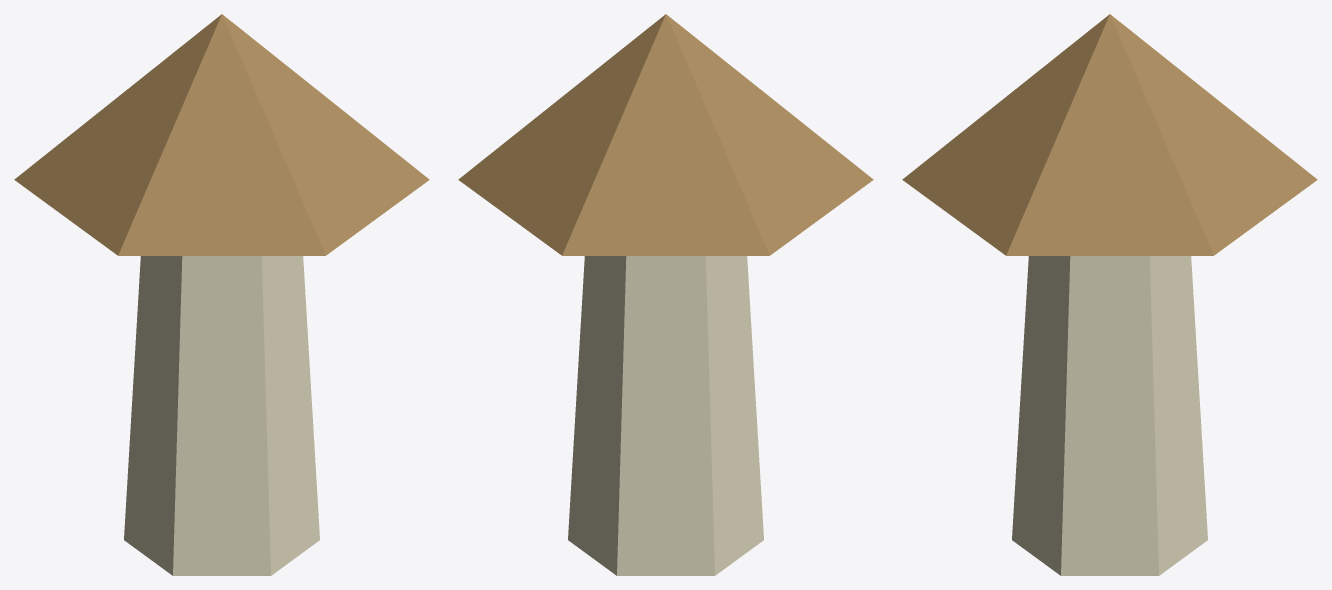
The model's file is Vegetation_New_Mushroom_Brown_03.FBX.
3 renders of one model, left to right at view 1: azimuth 30°, elevation 25°; view 2: azimuth 150°, elevation 25°; view 3: azimuth 270°, elevation 25°, orthographic.
Visible parts, largest first — view 1: Vegetation_New_Mushroom_Brown_03; view 2: Vegetation_New_Mushroom_Brown_03; view 3: Vegetation_New_Mushroom_Brown_03.
Boxes of the visible parts, x1=… form: Vegetation_New_Mushroom_Brown_03: x1=14, y1=14, x2=429, y2=575; Vegetation_New_Mushroom_Brown_03: x1=458, y1=14, x2=873, y2=575; Vegetation_New_Mushroom_Brown_03: x1=902, y1=14, x2=1317, y2=575.
Bounding box in the file's own units: 402 × 647 × 464.
